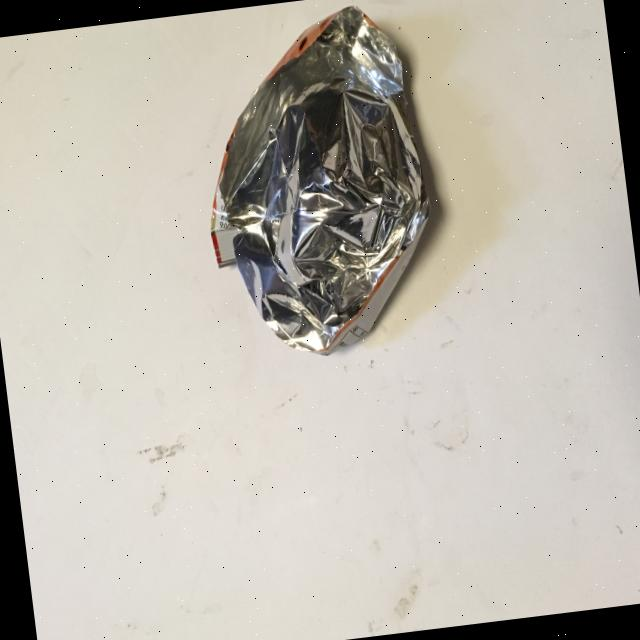plastic: (184, 0, 447, 367)
